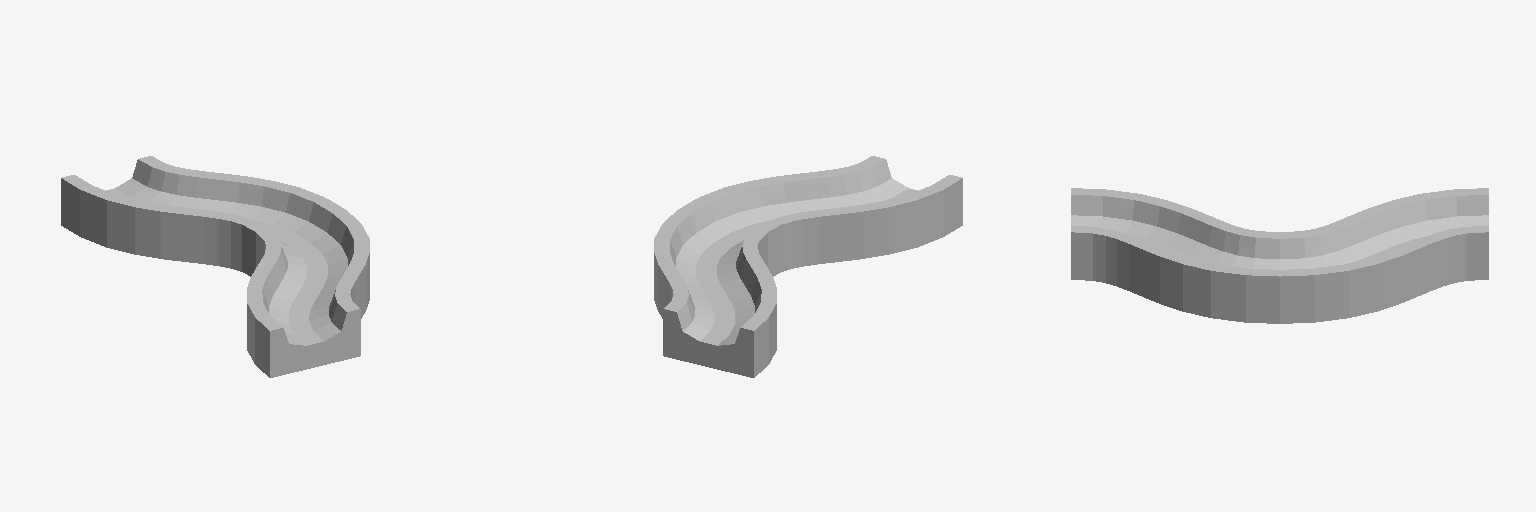
File: wave-c.obj
The picture shows the model from 3 angles: view 1: azimuth 30°, elevation 25°; view 2: azimuth 150°, elevation 25°; view 3: azimuth 270°, elevation 25°; orthographic projection.
Parts seen in each view (by area): view 1: wave-c; view 2: wave-c; view 3: wave-c.
Boxes of the visible parts, x1,y1,x2,y2 form: wave-c: [61, 156, 369, 377]; wave-c: [654, 156, 962, 377]; wave-c: [1071, 188, 1488, 323].
Size of the model in its own units: 2 by 0.5 by 4.